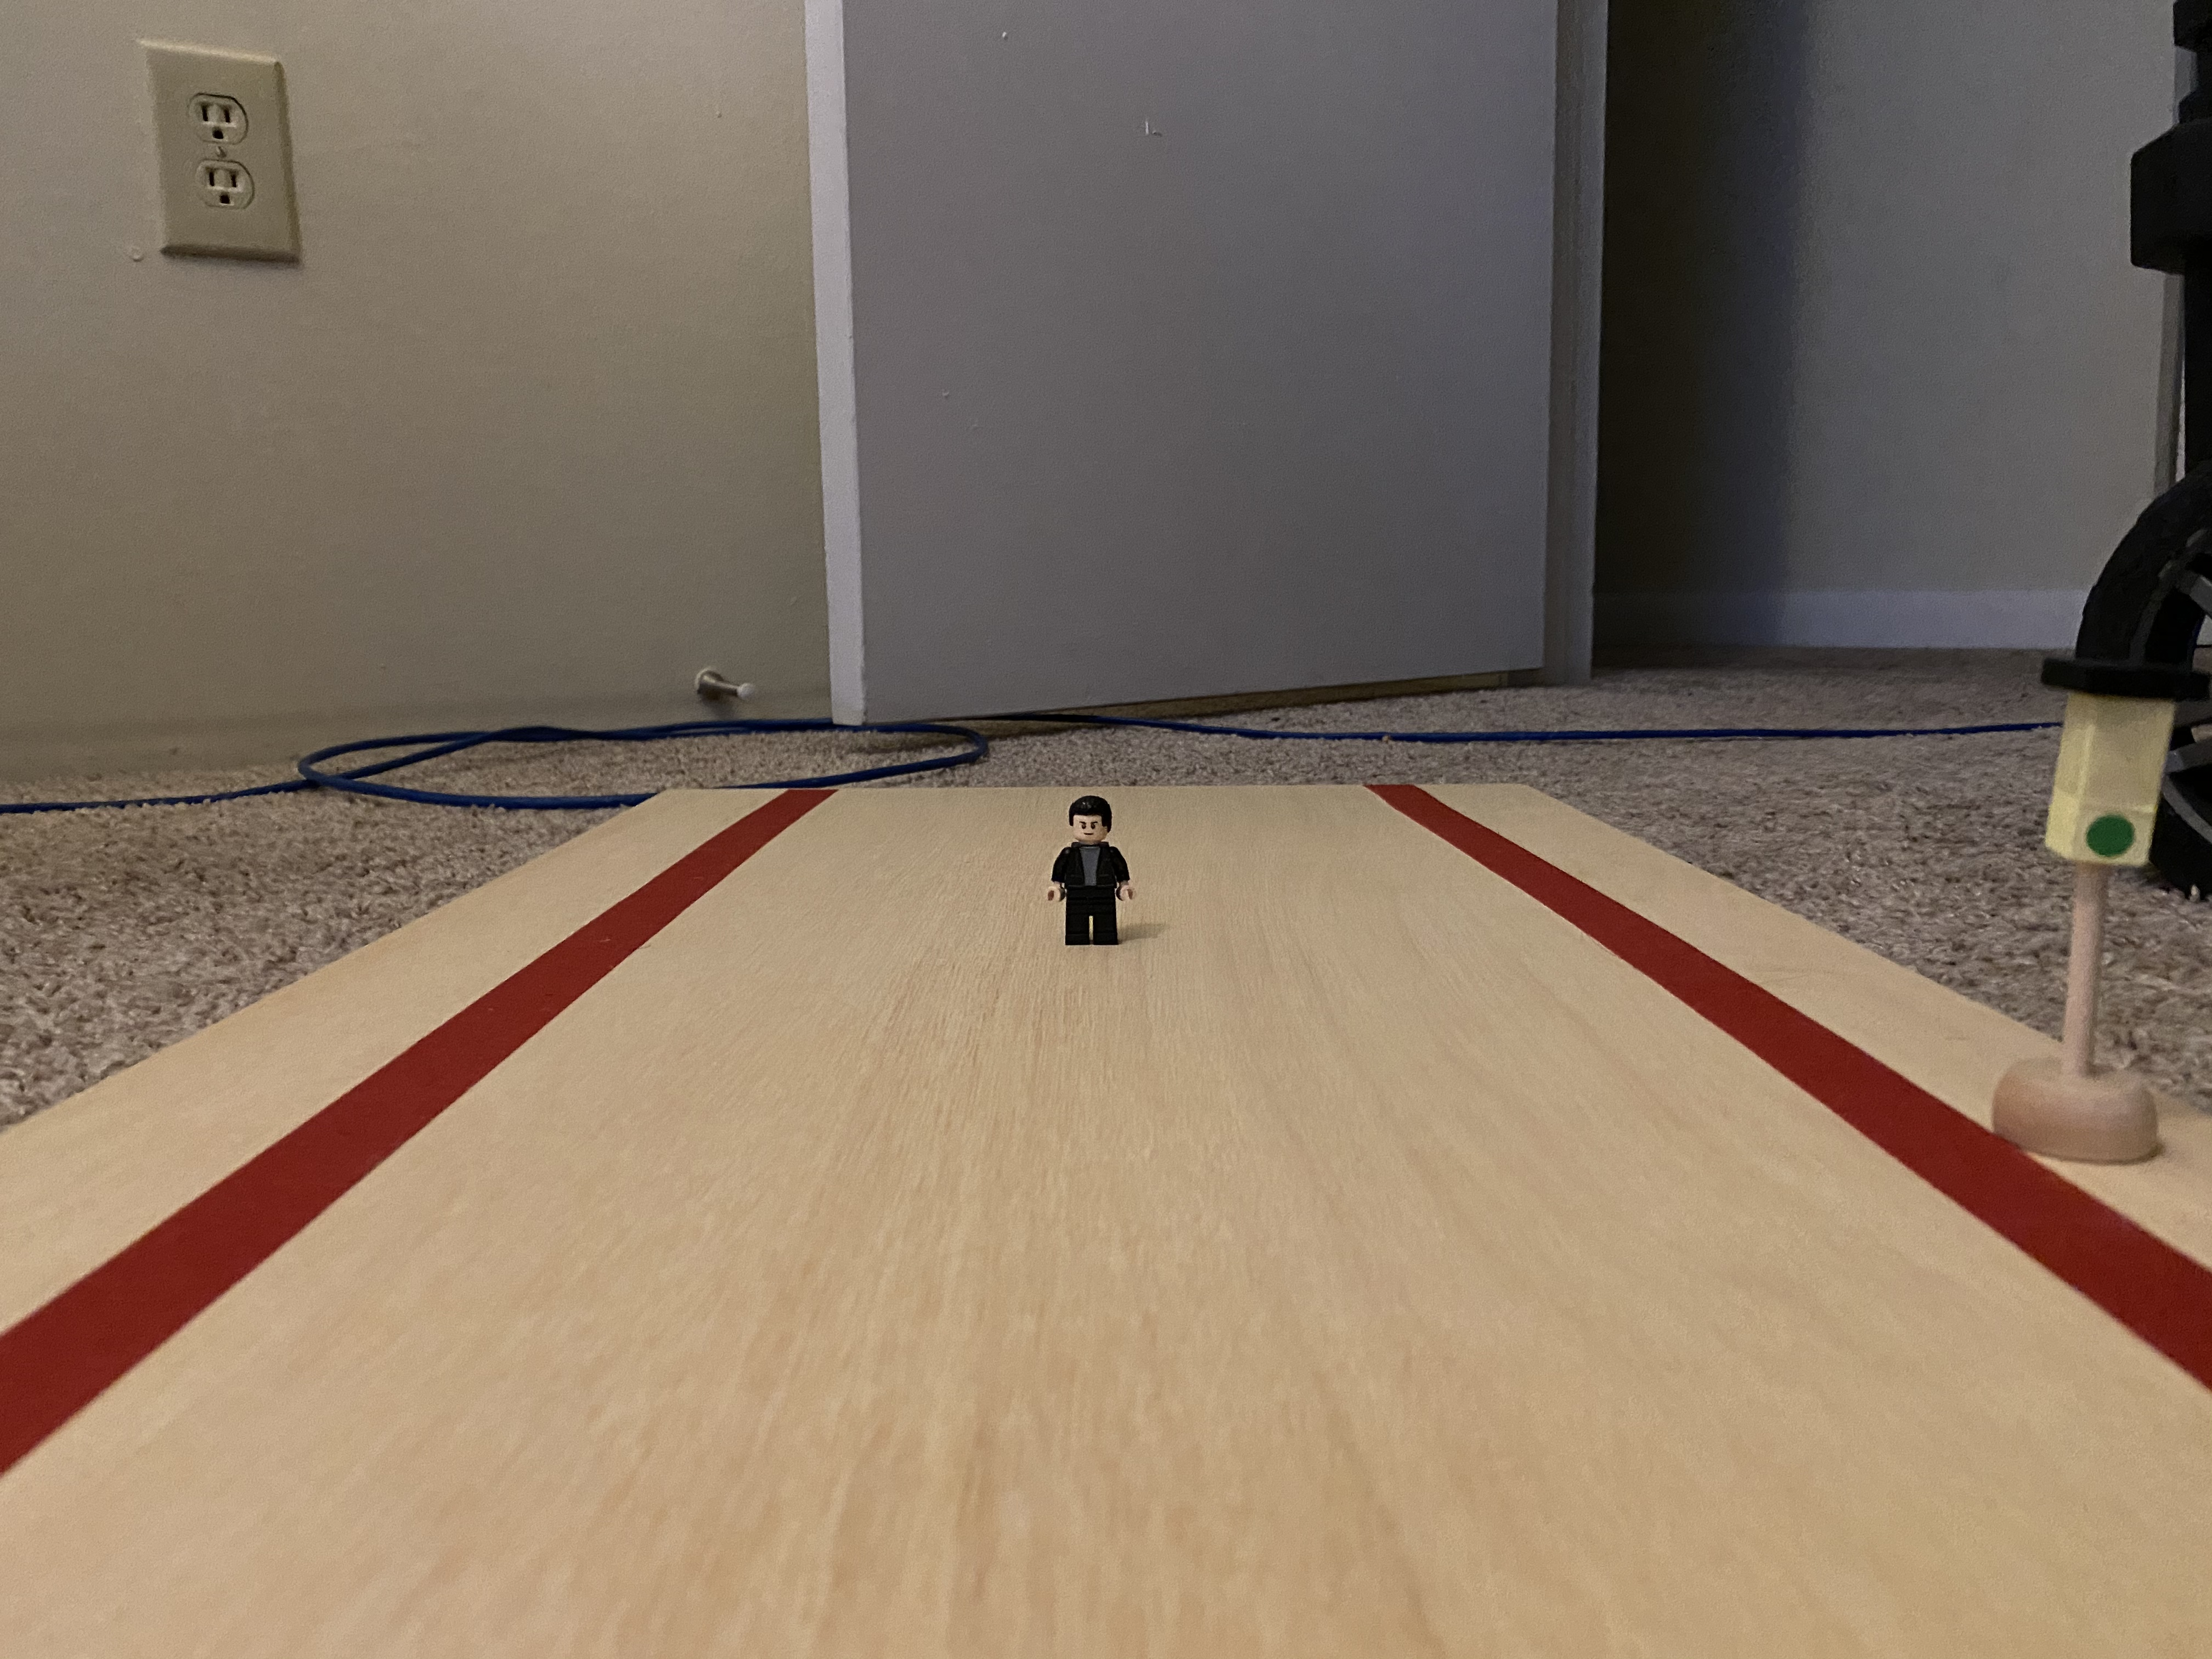Green Traffic Light: (2002, 637, 2199, 893)
Person: (1033, 788, 1161, 957)
